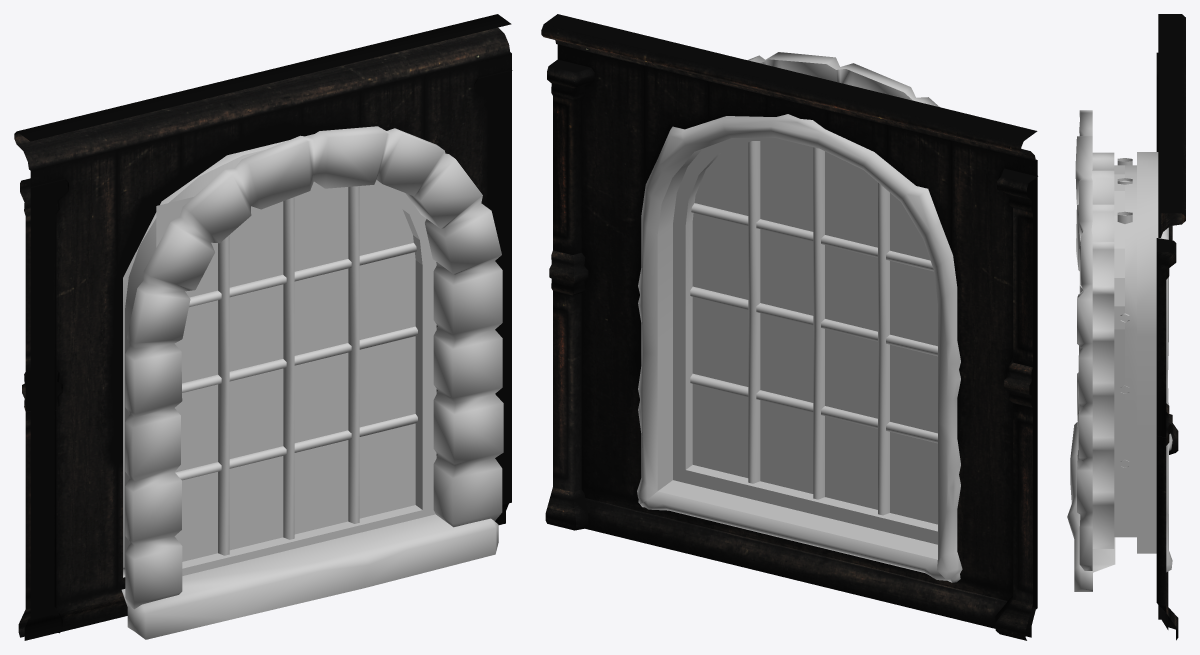
File: window_large_blue_seethrough_rotten.dae
3 renders of one model, left to right at view 1: azimuth 30°, elevation 25°; view 2: azimuth 150°, elevation 25°; view 3: azimuth 270°, elevation 25°, orthographic. The views are drawn at different scales.
Visible parts, largest first — view 1: polySurface679, polySurface682, polySurface639, polySurface680, polySurface640; view 2: polySurface679, polySurface680, polySurface682, polySurface639; view 3: polySurface680, polySurface639, polySurface679, polySurface640.
Part boxes in pixels (left/top/right/bottom): polySurface679: left=14, top=14, right=512, bottom=640; polySurface682: left=156, top=181, right=415, bottom=561; polySurface639: left=125, top=126, right=503, bottom=609; polySurface680: left=123, top=134, right=436, bottom=577; polySurface640: left=121, top=514, right=498, bottom=639; polySurface679: left=541, top=14, right=1037, bottom=640; polySurface680: left=637, top=114, right=962, bottom=582; polySurface682: left=692, top=141, right=937, bottom=524; polySurface639: left=747, top=52, right=939, bottom=106; polySurface680: left=1114, top=152, right=1172, bottom=572; polySurface639: left=1075, top=110, right=1114, bottom=570; polySurface679: left=1156, top=14, right=1185, bottom=640; polySurface640: left=1067, top=422, right=1115, bottom=591.
Size of the model in its own units: 4 by 4 by 1.01.
